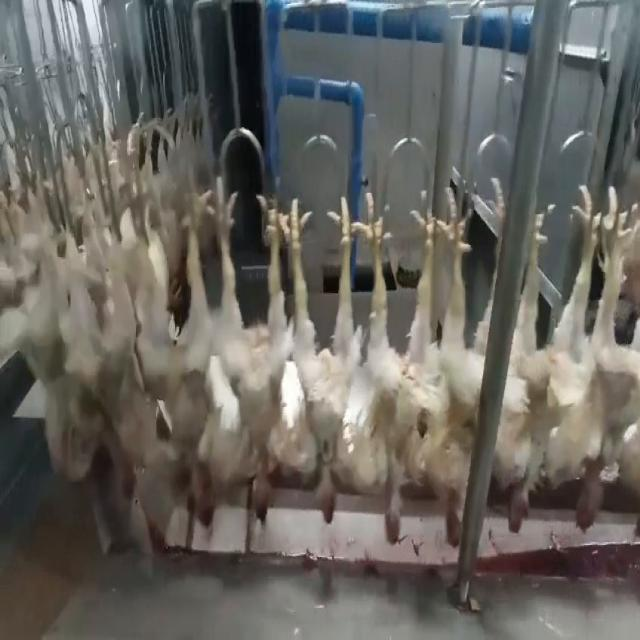chicken: (494, 182, 600, 534), (413, 174, 497, 549), (357, 188, 437, 552), (561, 174, 639, 539), (214, 185, 294, 532), (288, 180, 362, 528), (145, 188, 215, 534)
